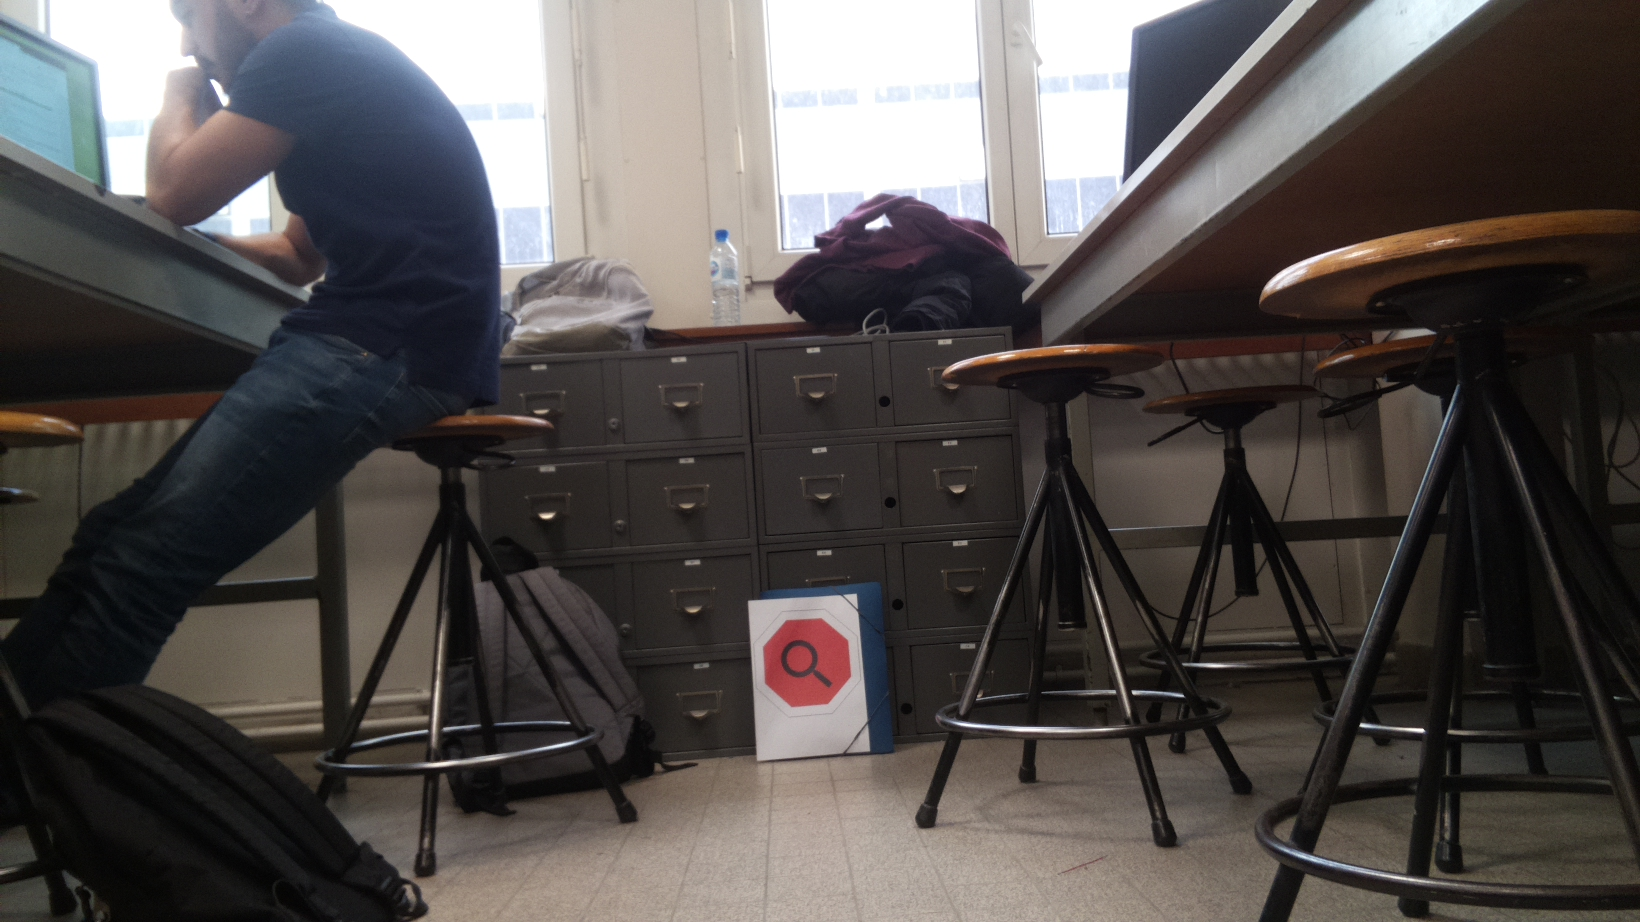search: (754, 608, 861, 718)
